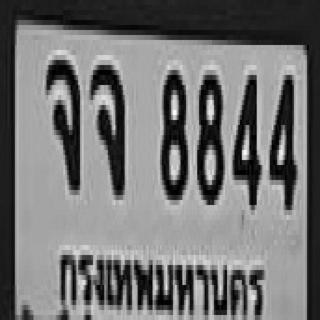A08: (89, 58, 123, 192), (45, 55, 78, 190)
N04: (231, 70, 259, 205), (268, 70, 294, 205)
N08: (195, 70, 221, 200), (160, 65, 186, 195)
P04: (54, 238, 268, 320)
